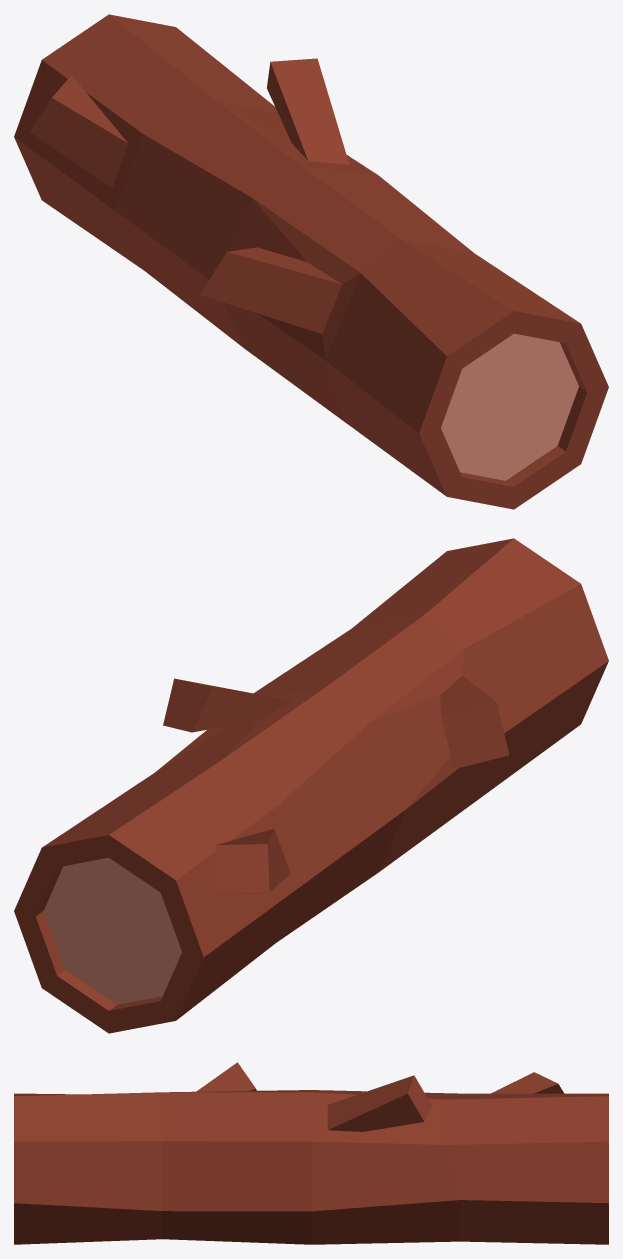
The model's file is log_6a.fbx.
The picture shows the model from 3 angles, top to bottom: view 1: azimuth 30°, elevation 25°; view 2: azimuth 150°, elevation 25°; view 3: azimuth 270°, elevation 25°; orthographic projection. The views are drawn at different scales.
Visible parts, largest first — view 1: log_6a; view 2: log_6a; view 3: log_6a.
Part boxes in pixels (box(x1,y1,x2,y2)): log_6a: box(14, 14, 608, 509); log_6a: box(14, 538, 608, 1033); log_6a: box(14, 1062, 608, 1244).
Bounding box in the file's own units: 70.52 × 64.6 × 197.
